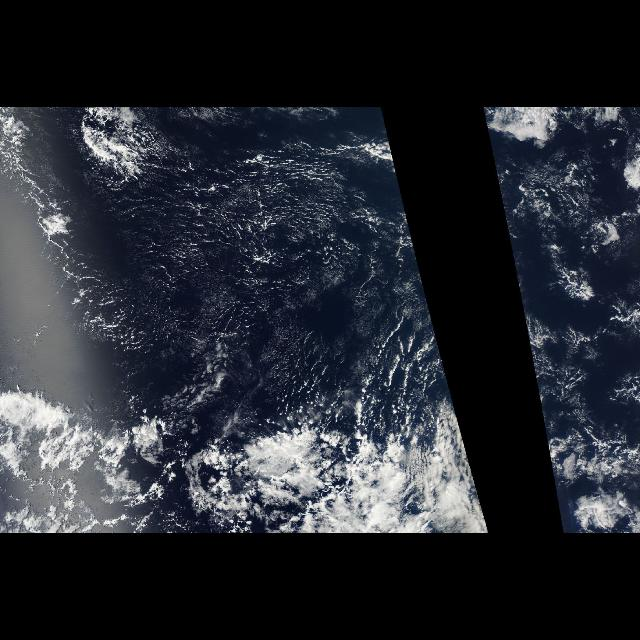Sugar: (46, 128, 456, 416)
